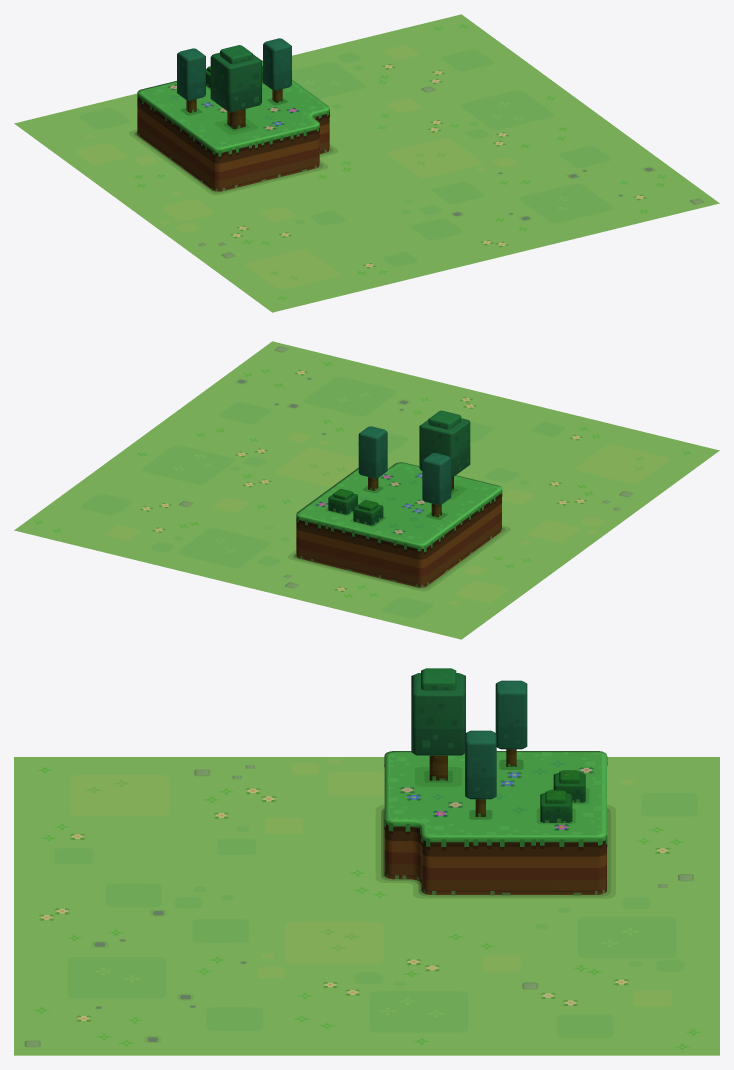
The model's file is C_grass1_04.fbx.
3 views of the same model, one above another, from view 1: azimuth 30°, elevation 25°; view 2: azimuth 150°, elevation 25°; view 3: azimuth 270°, elevation 25° (orthographic). The views are drawn at different scales.
Visible parts, largest first — view 1: C_grass1_04; view 2: C_grass1_04; view 3: C_grass1_04.
Part boxes in pixels (<box>): C_grass1_04: <box>14,14,719,312</box>; C_grass1_04: <box>14,341,719,639</box>; C_grass1_04: <box>14,668,719,1055</box>.
Size of the model in its own units: 50 by 12.68 by 50.
